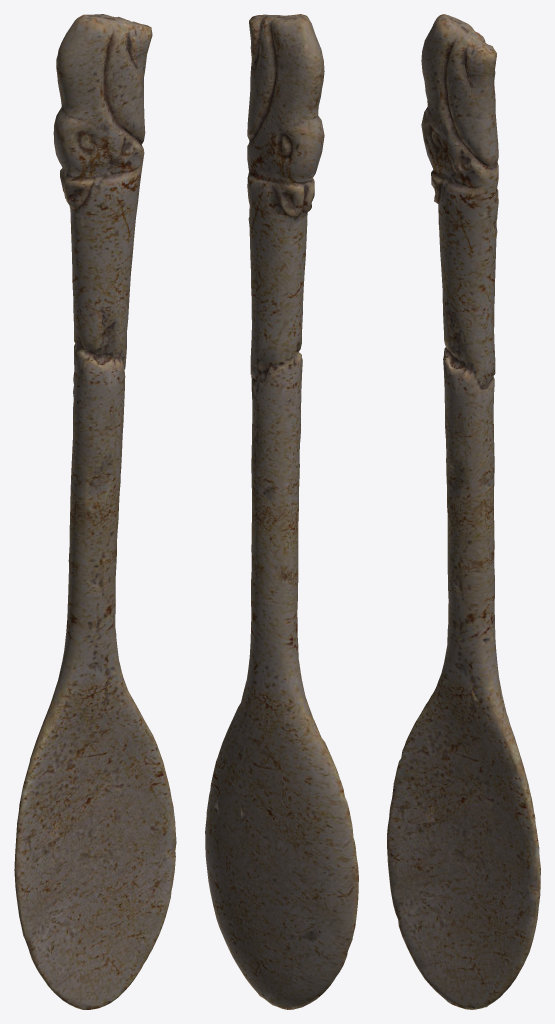
Rendered from Spoon4.fbx.
The picture shows the model from 3 angles, left to right: view 1: azimuth 30°, elevation 25°; view 2: azimuth 150°, elevation 25°; view 3: azimuth 330°, elevation 25°; orthographic projection.
Visible parts, largest first — view 1: Spoon4; view 2: Spoon4; view 3: Spoon4.
Boxes of the visible parts, x1,y1,x2,y2 form: Spoon4: (14, 14, 176, 1009); Spoon4: (205, 14, 358, 1009); Spoon4: (387, 14, 540, 1009).
Bounding box in the file's own units: 38.77 × 235 × 14.37.
